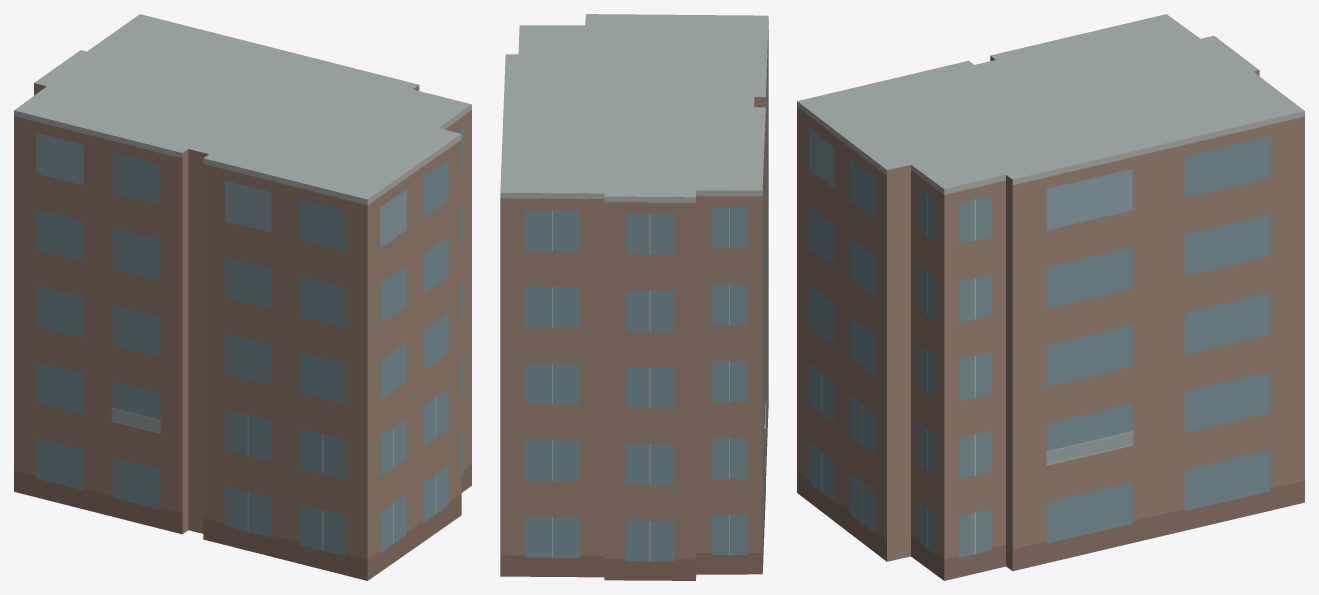
File: survey-upis-32767703.glb
The picture shows the model from 3 angles, left to right: view 1: azimuth 30°, elevation 25°; view 2: azimuth 150°, elevation 25°; view 3: azimuth 270°, elevation 25°; orthographic projection. The views are drawn at different scales.
Visible parts, largest first — view 1: survey-upis-32767703.tmp; view 2: survey-upis-32767703.tmp; view 3: survey-upis-32767703.tmp.
Part boxes in pixels (<box>): survey-upis-32767703.tmp: <box>14,14,471,580</box>; survey-upis-32767703.tmp: <box>500,14,768,580</box>; survey-upis-32767703.tmp: <box>797,14,1304,580</box>.
Bounding box in the file's own units: 16.04 × 16.7 × 19.63.
